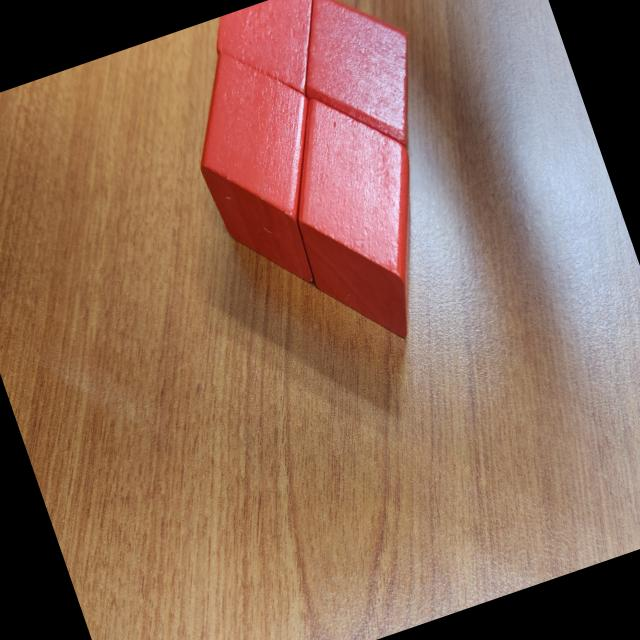red: (258, 74, 466, 362), (166, 29, 366, 307), (276, 0, 444, 172), (205, 0, 343, 118)
